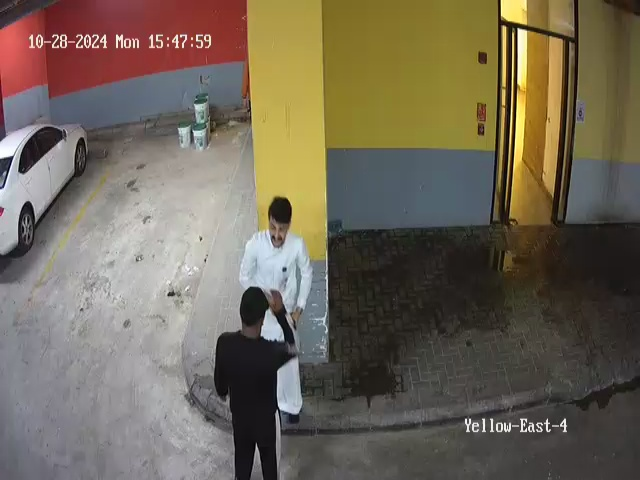male: (213, 286, 301, 480), (239, 196, 313, 326)
